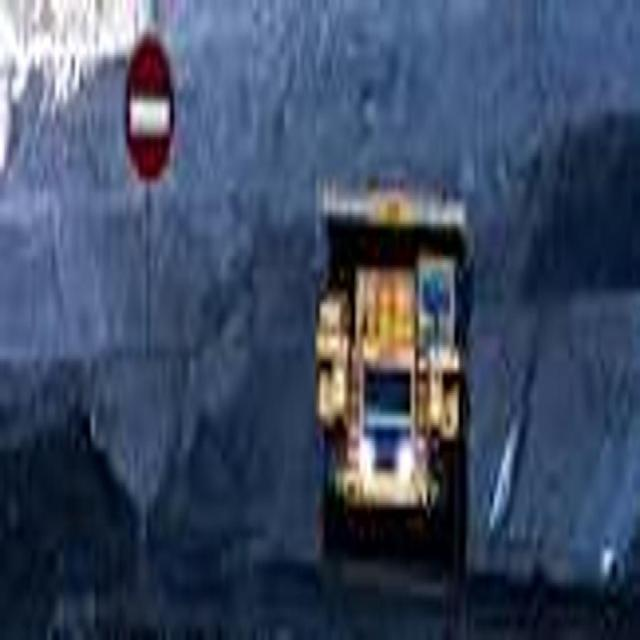dump_truck: (311, 148, 482, 590)
